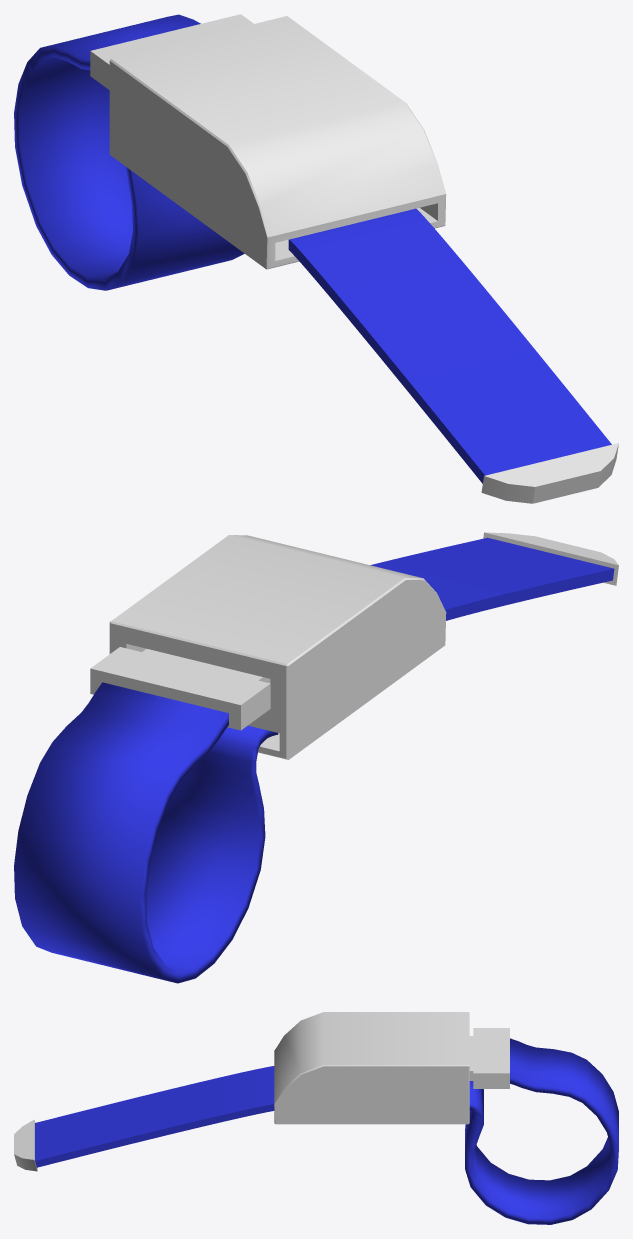
File: garrote.fbx
3 renders of one model, top to bottom at view 1: azimuth 30°, elevation 25°; view 2: azimuth 150°, elevation 25°; view 3: azimuth 270°, elevation 25°, orthographic. The views are drawn at different scales.
Parts seen in each view (by area): view 1: Cubo.002, Curve1.001, Curve2.001, Trava, Encaixe; view 2: Curve2.001, Cubo.002, Curve1.001, Encaixe, Trava; view 3: Cubo.002, Curve2.001, Curve1.001, Encaixe, Trava.
Boxes of the visible parts, x1,y1,x2,y2 form: Cubo.002: (109, 16, 446, 269); Curve1.001: (288, 208, 611, 483); Curve2.001: (14, 14, 244, 290); Trava: (481, 443, 618, 503); Encaixe: (90, 14, 253, 89); Curve2.001: (14, 682, 278, 983); Cubo.002: (109, 535, 446, 759); Curve1.001: (370, 537, 614, 620); Encaixe: (90, 647, 270, 730); Trava: (483, 532, 618, 585); Cubo.002: (274, 1012, 469, 1124); Curve2.001: (465, 1038, 618, 1224); Curve1.001: (35, 1066, 274, 1167); Encaixe: (469, 1028, 509, 1088); Trava: (14, 1120, 37, 1171).
Bounding box in the file's own units: 425 × 617 × 2020.
